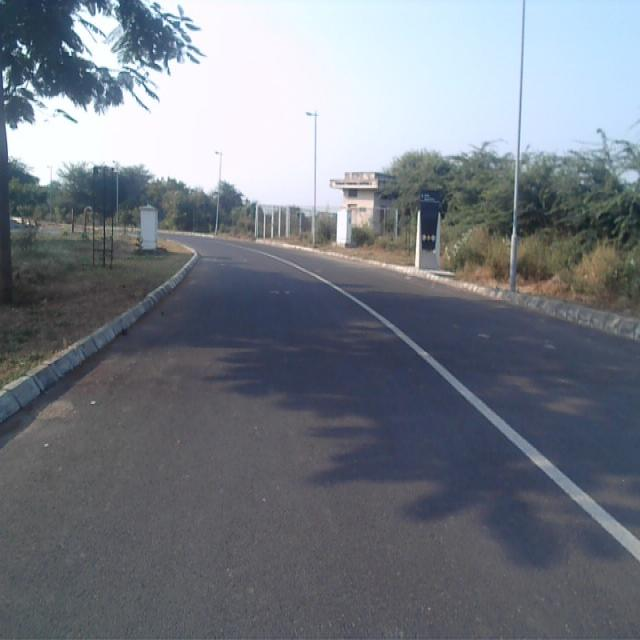lane: (0, 238, 640, 640)
